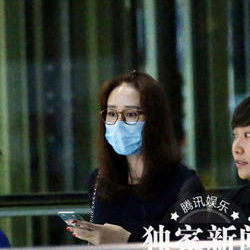mask: (100, 113, 150, 157)
